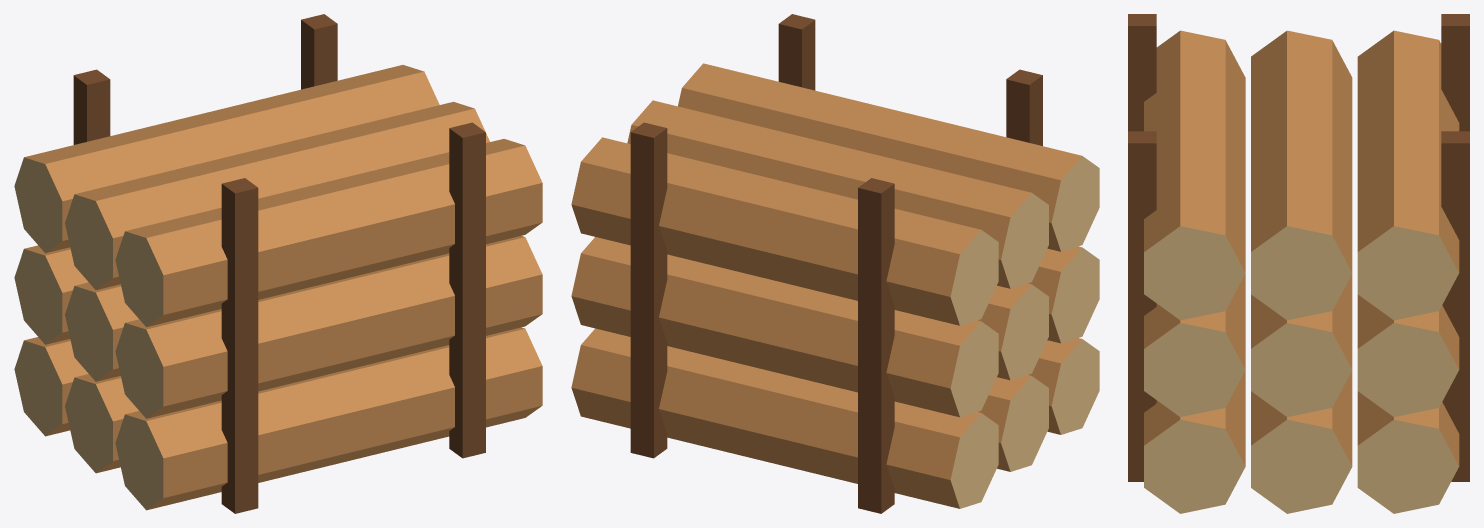
File: prop_logs_l.fbx
3 renders of one model, left to right at view 1: azimuth 30°, elevation 25°; view 2: azimuth 150°, elevation 25°; view 3: azimuth 270°, elevation 25°, orthographic. The views are drawn at different scales.
Parts seen in each view (by area): view 1: prop_logs_l; view 2: prop_logs_l; view 3: prop_logs_l.
Boxes of the visible parts, x1,y1,x2,y2 form: prop_logs_l: [14, 14, 542, 513]; prop_logs_l: [571, 14, 1099, 513]; prop_logs_l: [1128, 14, 1469, 513].
Bounding box in the file's own units: 0.312 × 0.252 × 0.2304.
